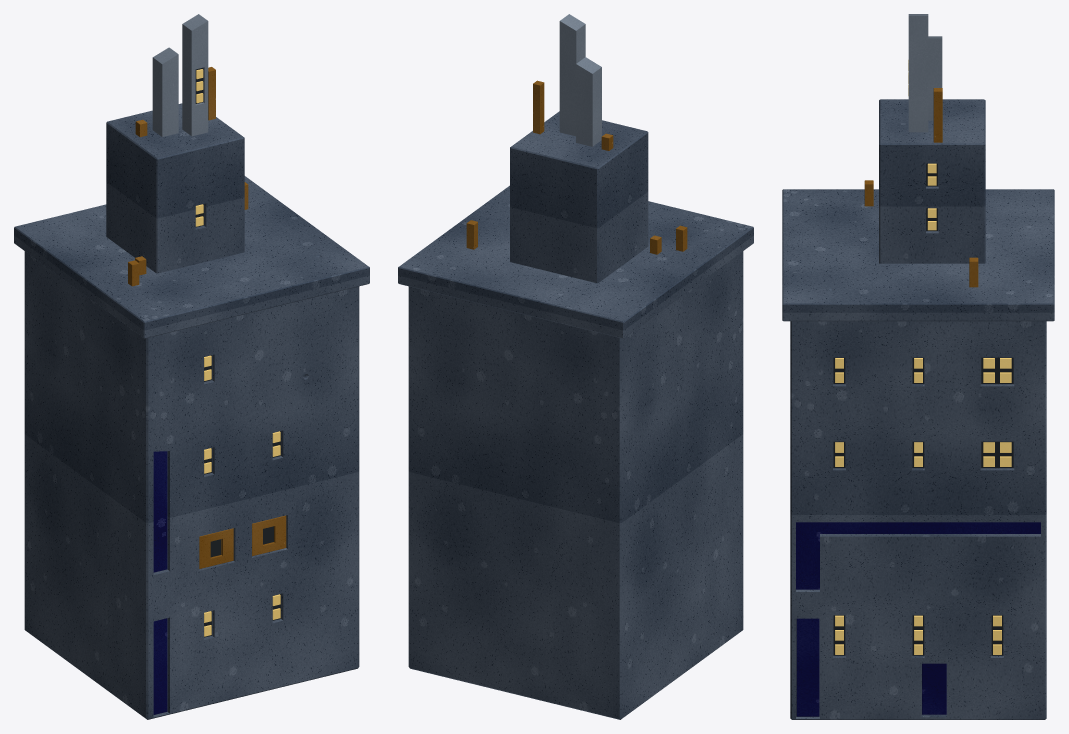
3 views of the same model, side by side, from view 1: azimuth 30°, elevation 25°; view 2: azimuth 150°, elevation 25°; view 3: azimuth 270°, elevation 25° (orthographic). The views are drawn at different scales.
Parts seen in each view (by area): view 1: Elite Block main concrete body, Elite Block main roof lip, Elite Block upper command sensor tower, Elite Block four straight blue fields, Elite Block tall point-bearing pale mast, Elite Block shorter pale mast, Elite Block two brass front frames, Elite Block fortyfour amber points, Elite Block five unequal brass roof pins; view 2: Elite Block main concrete body, Elite Block main roof lip, Elite Block upper command sensor tower, Elite Block tall point-bearing pale mast, Elite Block shorter pale mast, Elite Block five unequal brass roof pins; view 3: Elite Block main concrete body, Elite Block main roof lip, Elite Block upper command sensor tower, Elite Block blue L field, Elite Block four straight blue fields, Elite Block fortyfour amber points, Elite Block eighteen dark field backings, Elite Block tall point-bearing pale mast, Elite Block five unequal brass roof pins, Elite Block shorter pale mast.
Boxes of the visible parts, box(x1,y1,x2,y2) form: Elite Block main concrete body: box(24, 251, 359, 719); Elite Block main roof lip: box(14, 176, 369, 338); Elite Block upper command sensor tower: box(106, 103, 244, 273); Elite Block four straight blue fields: box(153, 451, 167, 714); Elite Block tall point-bearing pale mast: box(182, 14, 208, 136); Elite Block shorter pale mast: box(152, 47, 178, 136); Elite Block two brass front frames: box(199, 515, 286, 568); Elite Block fortyfour amber points: box(195, 69, 280, 636); Elite Block five unequal brass roof pins: box(128, 67, 248, 286); Elite Block main concrete body: box(408, 251, 743, 719); Elite Block main roof lip: box(398, 185, 753, 338); Elite Block upper command sensor tower: box(510, 111, 648, 283); Elite Block tall point-bearing pale mast: box(559, 14, 585, 136); Elite Block shorter pale mast: box(576, 57, 601, 146); Elite Block five unequal brass roof pins: box(466, 80, 687, 254); Elite Block main concrete body: box(790, 321, 1046, 719); Elite Block main roof lip: box(782, 189, 1054, 321); Elite Block upper command sensor tower: box(879, 99, 985, 263); Elite Block blue L field: box(796, 522, 1040, 589); Elite Block four straight blue fields: box(796, 618, 946, 716); Elite Block fortyfour amber points: box(835, 60, 1011, 654); Elite Block eighteen dark field backings: box(833, 163, 1013, 655); Elite Block tall point-bearing pale mast: box(908, 14, 928, 132); Elite Block five unequal brass roof pins: box(864, 88, 978, 287); Elite Block shorter pale mast: box(928, 36, 942, 120).
Bounding box in the file's own units: 1.38 × 3.67 × 1.38.
Materials: 6 (5 with a texture image).
